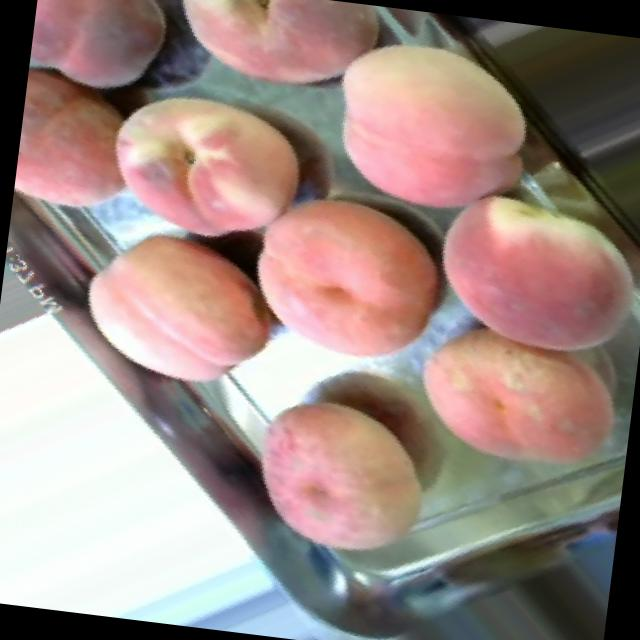Fruit: (290, 0, 574, 253), (217, 157, 480, 396), (397, 148, 640, 385), (384, 296, 640, 509), (224, 366, 460, 587), (53, 219, 299, 421), (86, 60, 337, 256), (143, 0, 408, 126), (10, 66, 166, 240), (27, 0, 191, 101)
